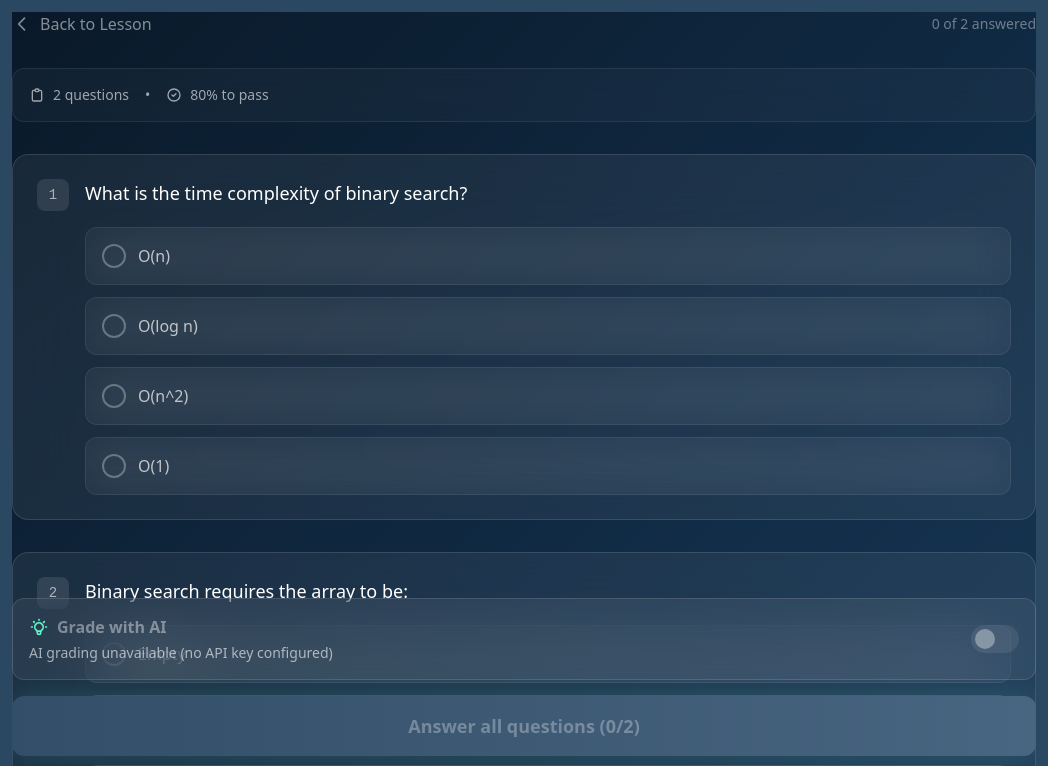
Scenario: QuizView › should update count when selecting an answer
// Click on the first option of the first question
Click the button "O(n)" at {"x": 154, "y": 256}, box [85, 227, 1011, 285]
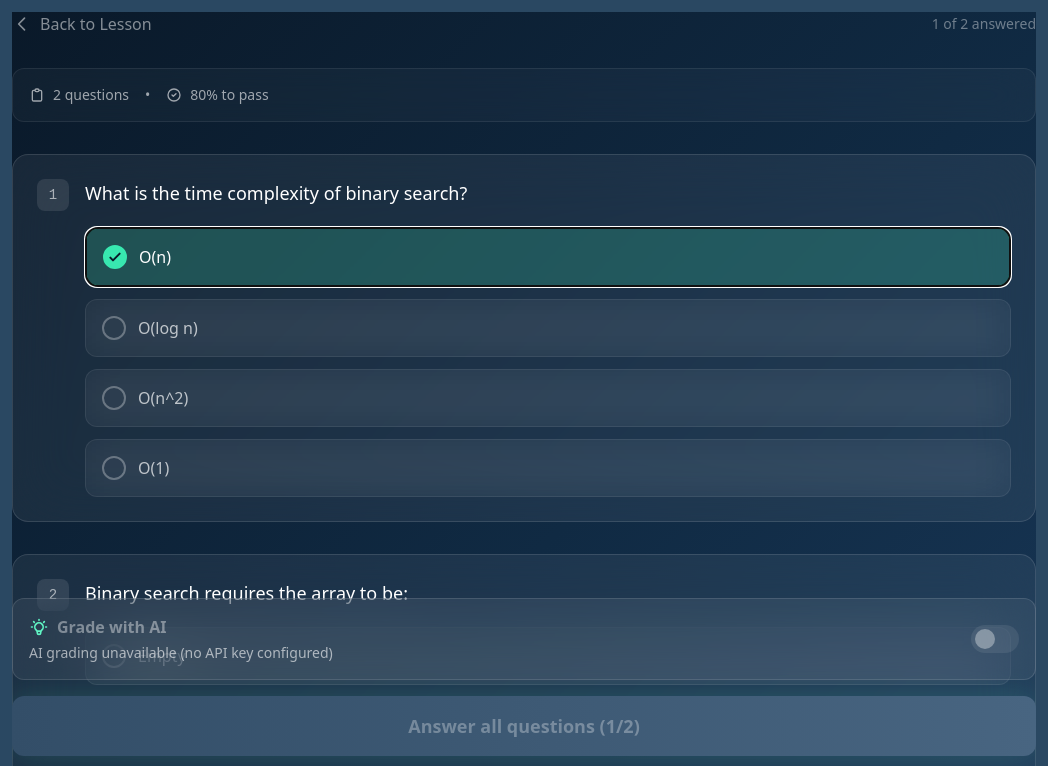
Expected: the text "1 of 2 answered" is shown, [932, 14, 1036, 34]
